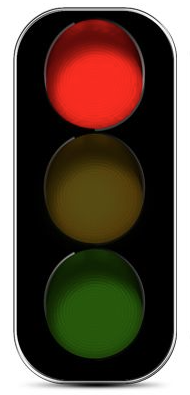red: (14, 5, 190, 389)
